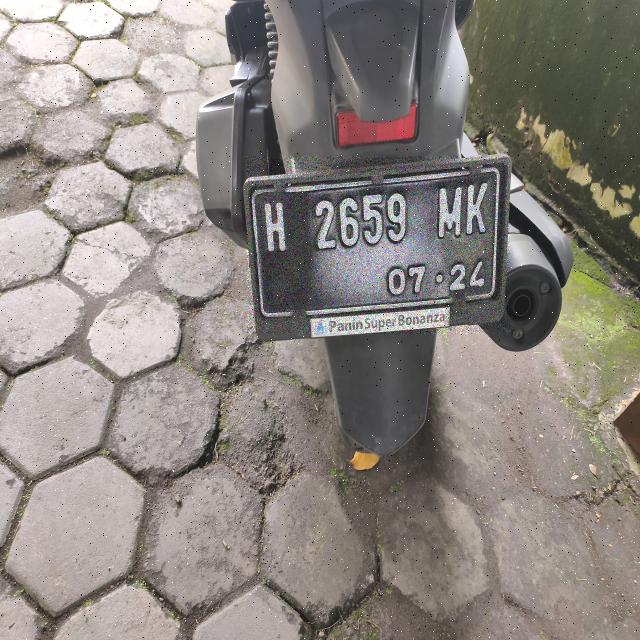plate: (246, 157, 509, 321)
